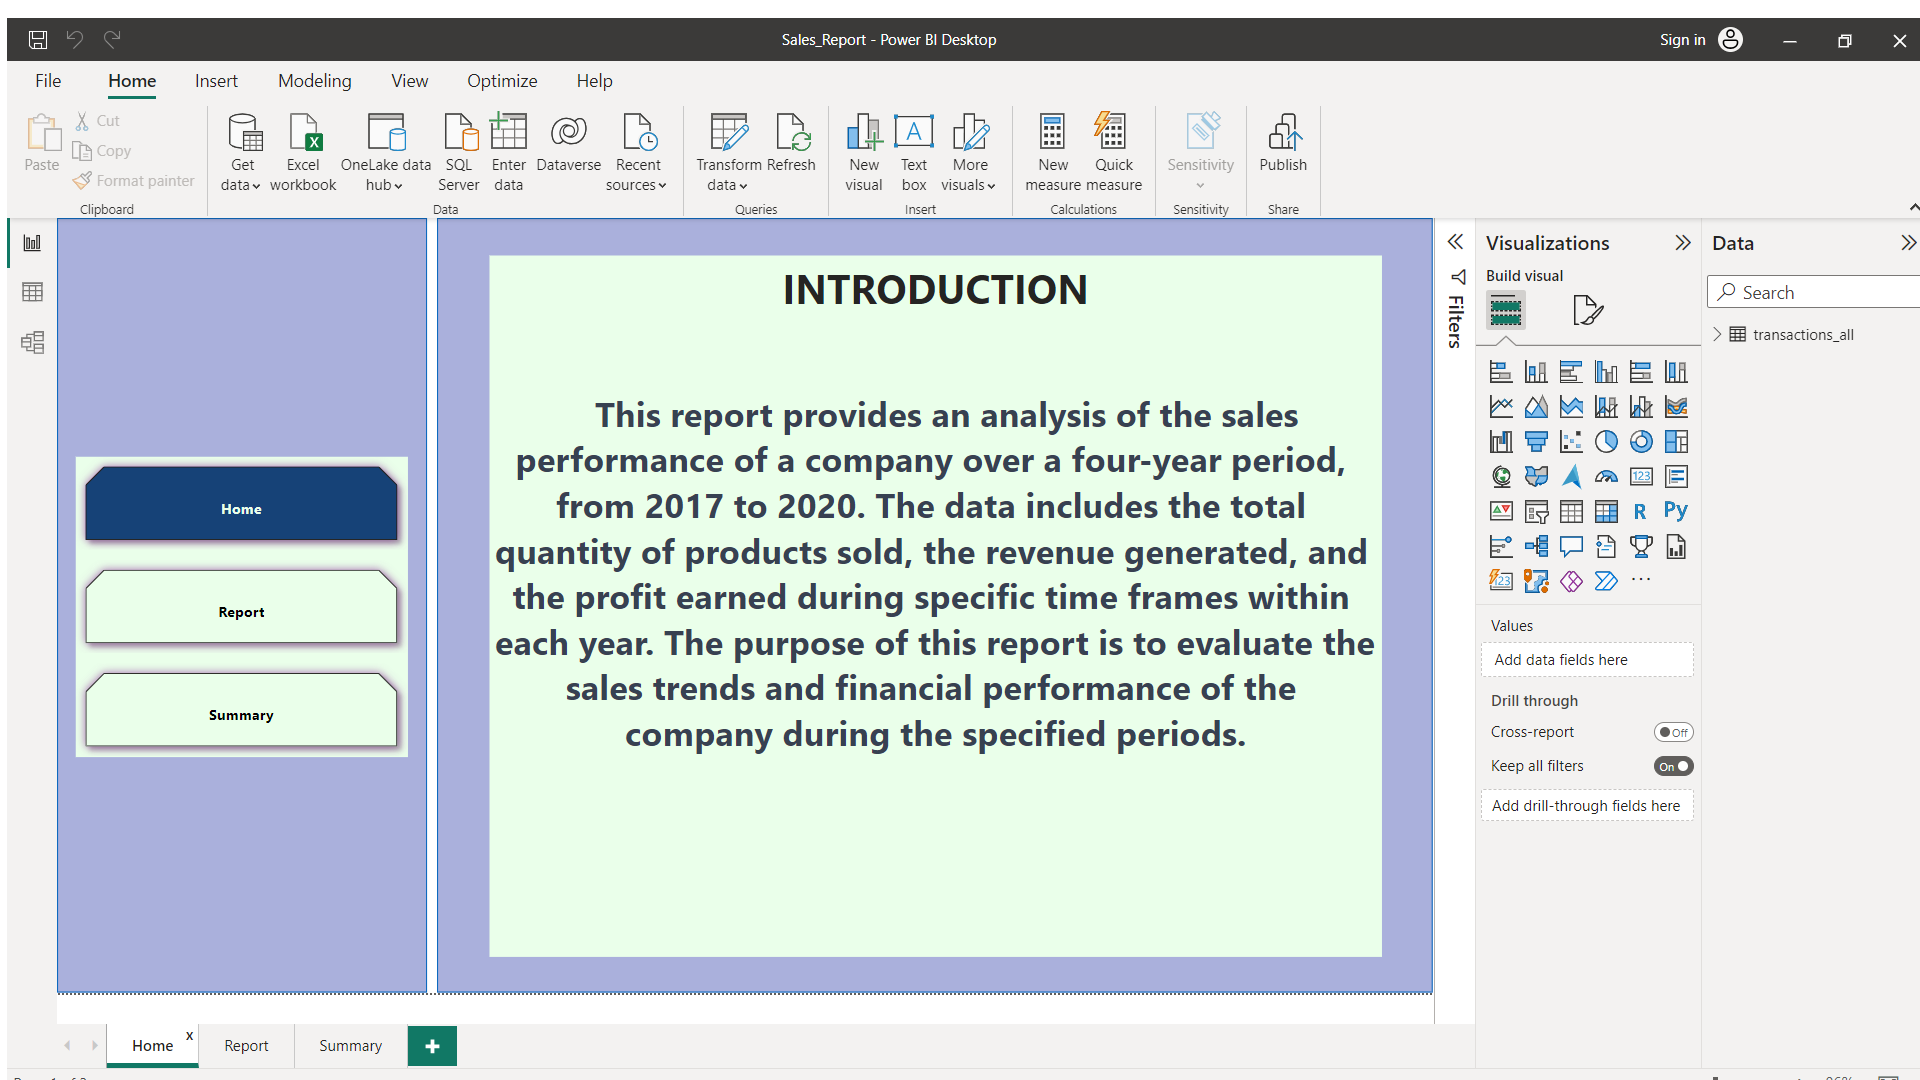

The dashboard page shown, as its layout file describes it:
{"tool":"powerbi","page":{"name":"Home","canvas":[1280,720],"ordinal":0},"visuals":[{"type":"shape","box":[0,0,343.6,720],"z":0},{"type":"pageNavigator","box":[17,221.5,308.6,279.2],"z":1000},{"type":"shape","box":[353.8,0,925.7,720],"z":2000},{"type":"textbox","box":[402.4,35,829.6,652.2],"z":3000}]}

Visuals, with their boxes on the page's 1280x720 design canvas (x1, y1, x2, y2). These are canvas units, not pixel positions in the 1920x1080 screenshot, which may show the page scaled, cropped or inside an application window:
shape: [left=0, top=0, right=344, bottom=720]
pageNavigator: [left=17, top=222, right=326, bottom=501]
shape: [left=354, top=0, right=1280, bottom=720]
textbox: [left=402, top=35, right=1232, bottom=687]
